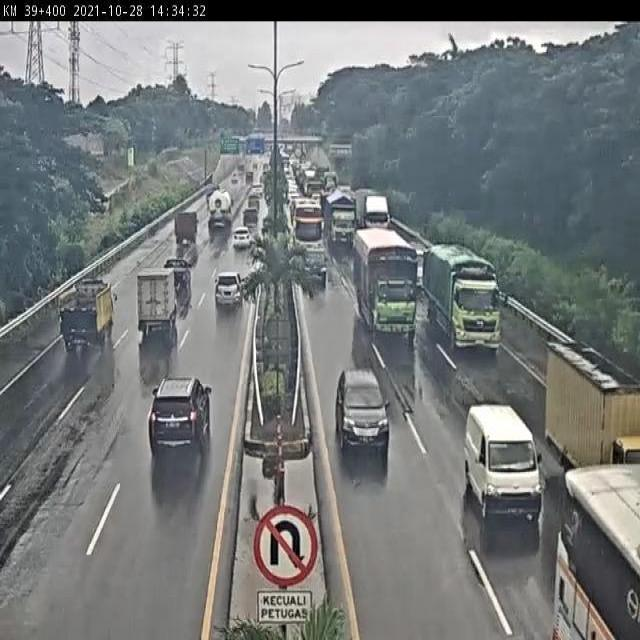big bus: (290, 193, 324, 247)
big truck: (508, 406, 640, 640), (421, 241, 499, 351), (353, 227, 415, 340), (323, 187, 355, 248), (355, 187, 390, 233)
car: (459, 403, 542, 521), (337, 369, 392, 456), (149, 377, 213, 451), (137, 272, 177, 344), (214, 270, 247, 314), (398, 234, 422, 282), (301, 252, 332, 288), (160, 262, 189, 298), (231, 230, 253, 253), (238, 216, 257, 235), (244, 198, 259, 214)
small truck: (523, 329, 640, 454), (59, 277, 119, 355), (204, 189, 233, 236), (173, 213, 200, 252)
